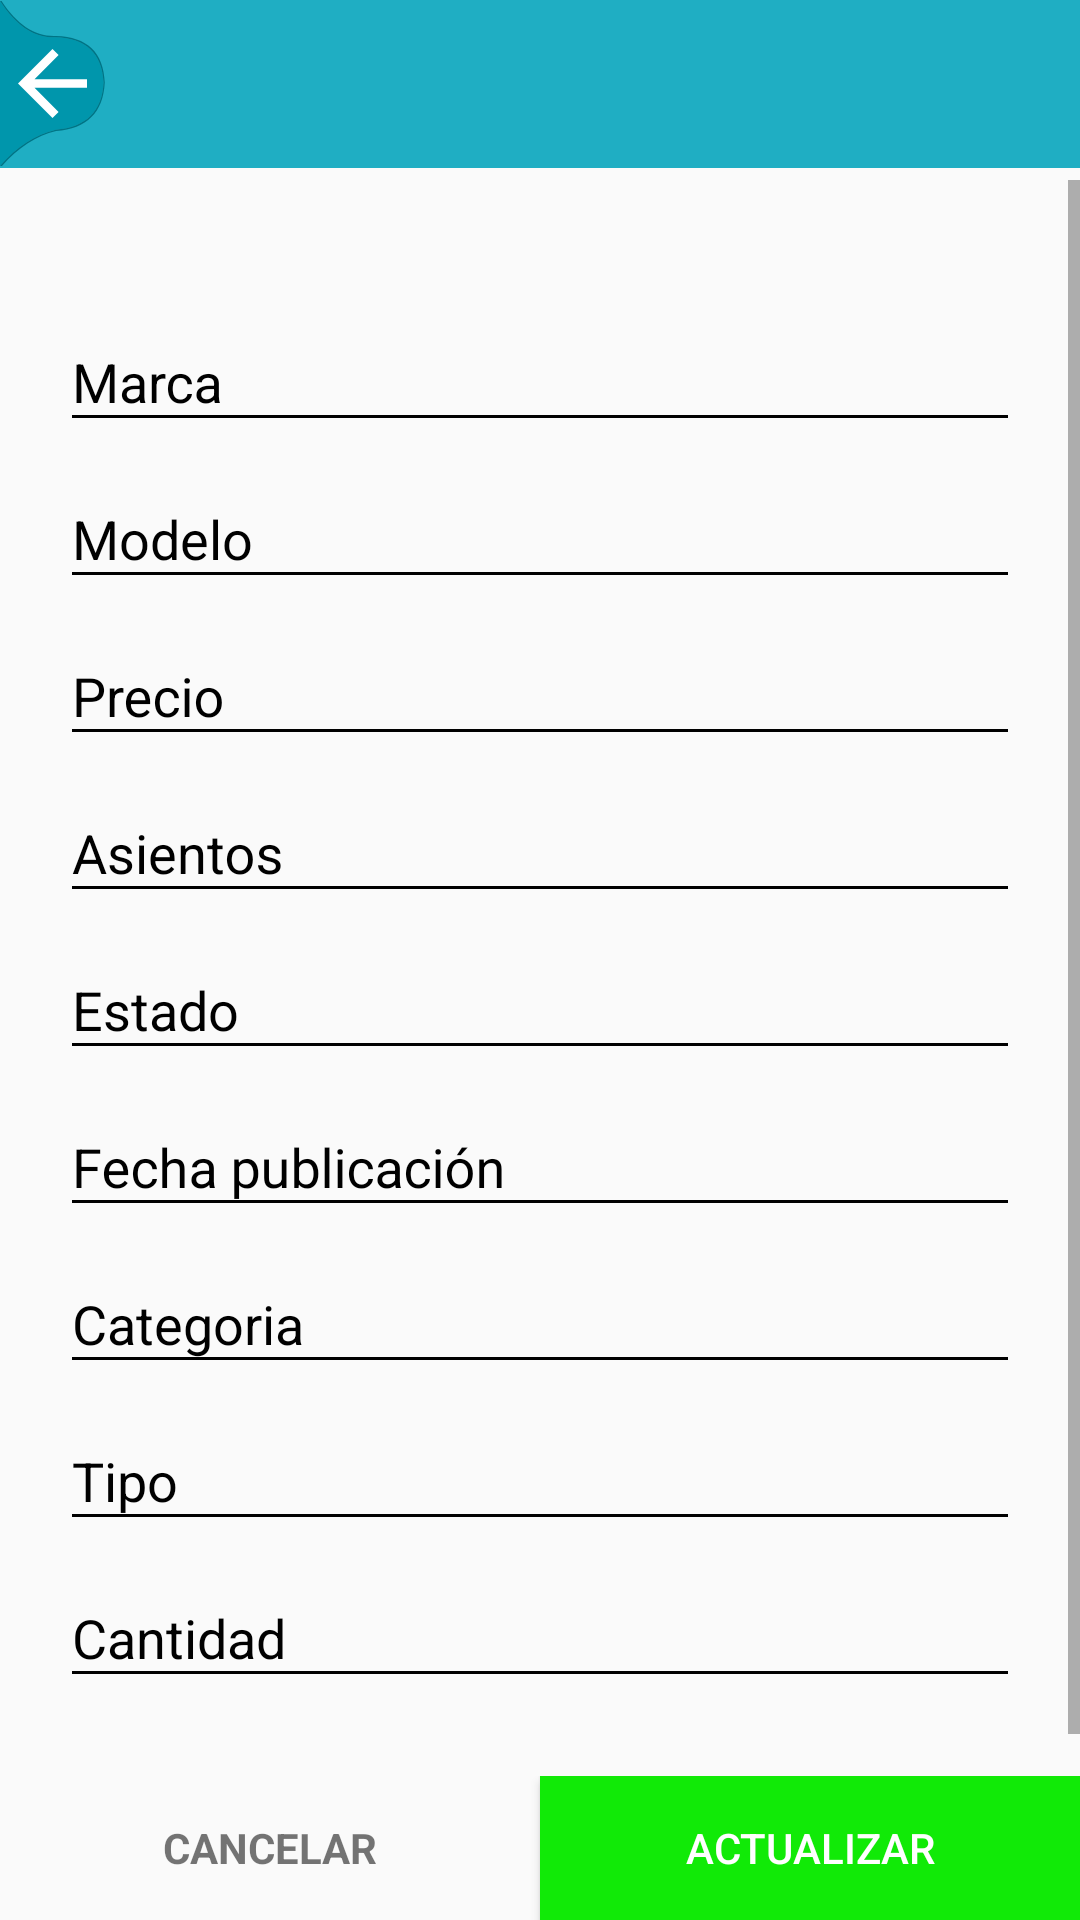

Where icons sit on this 1080 x 1920 app screen, as (x1, y1, x2, y2):
flecha retroceso: (18, 49, 87, 118)
